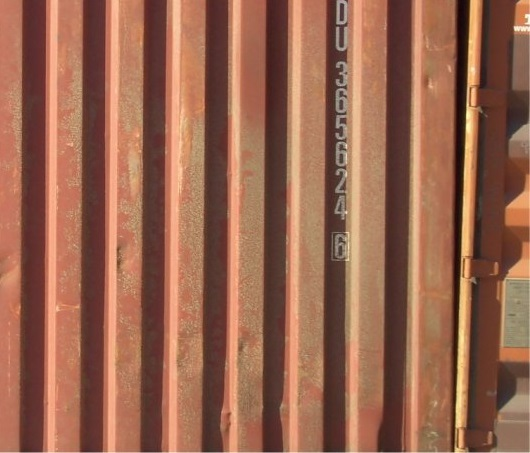container_no_door: (2, 1, 462, 447)
